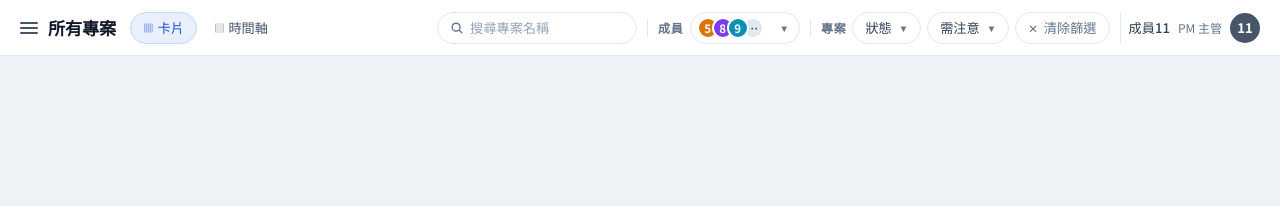
Test: OverviewTopBar › 狀態下拉：選項順序 未開始 / 進行中 / 已完成；勾一個後 label 變「狀態 1」
The width and height of the screenshot is (1280, 206).
Click the button with class "dd-trigger" showing "狀態 ▼".
click(887, 28)  # box [852, 12, 921, 44]
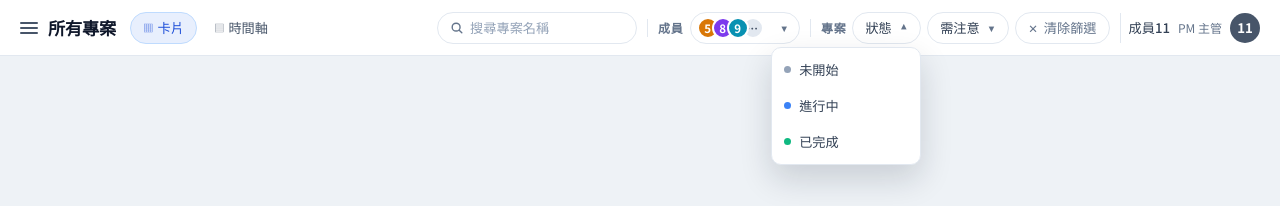
Click the button with class "dd-item" showing "未開始".
click(846, 70)  # box [776, 52, 916, 88]
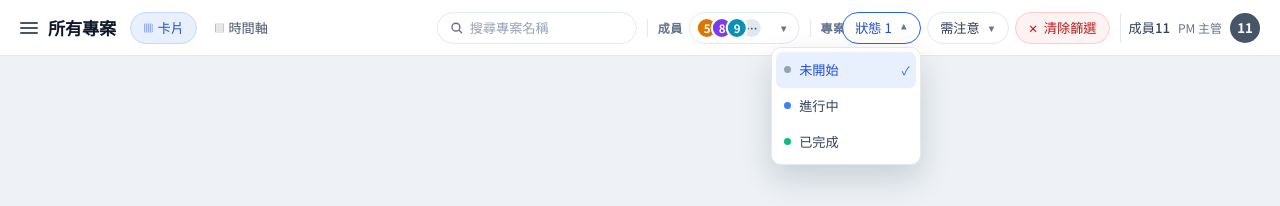
Now the button with class "dd-trigger" shows "狀態 1", box [842, 12, 921, 44]
